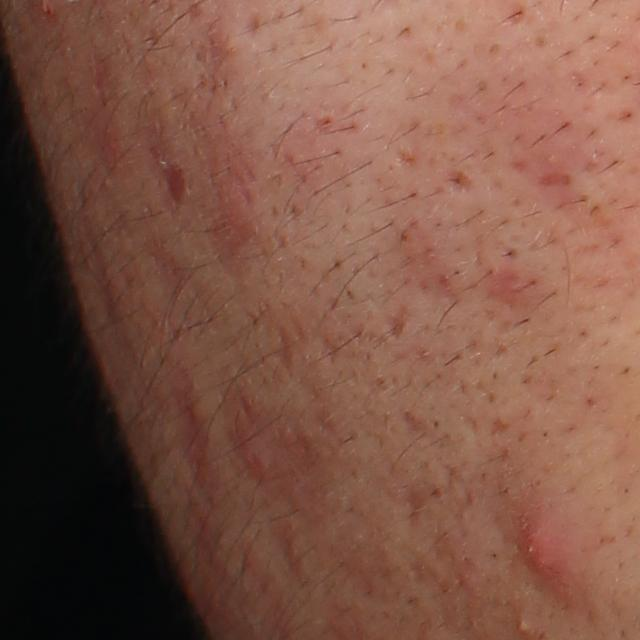atrophic_scar: (480, 265, 534, 310), (266, 314, 293, 371), (165, 163, 189, 209), (439, 168, 474, 196), (385, 304, 410, 342), (537, 171, 572, 188)
papule: (515, 524, 567, 586), (233, 420, 268, 479)
